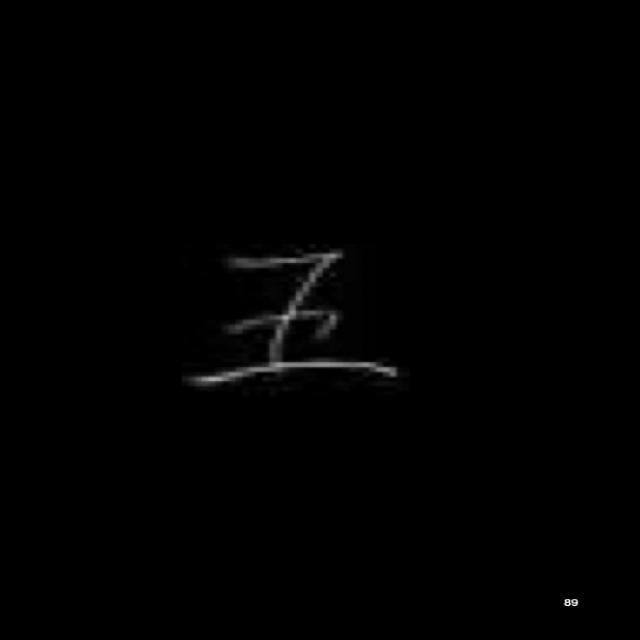5 -five-: (167, 237, 425, 405)
